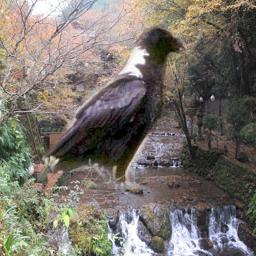Crow: (37, 21, 187, 189)
